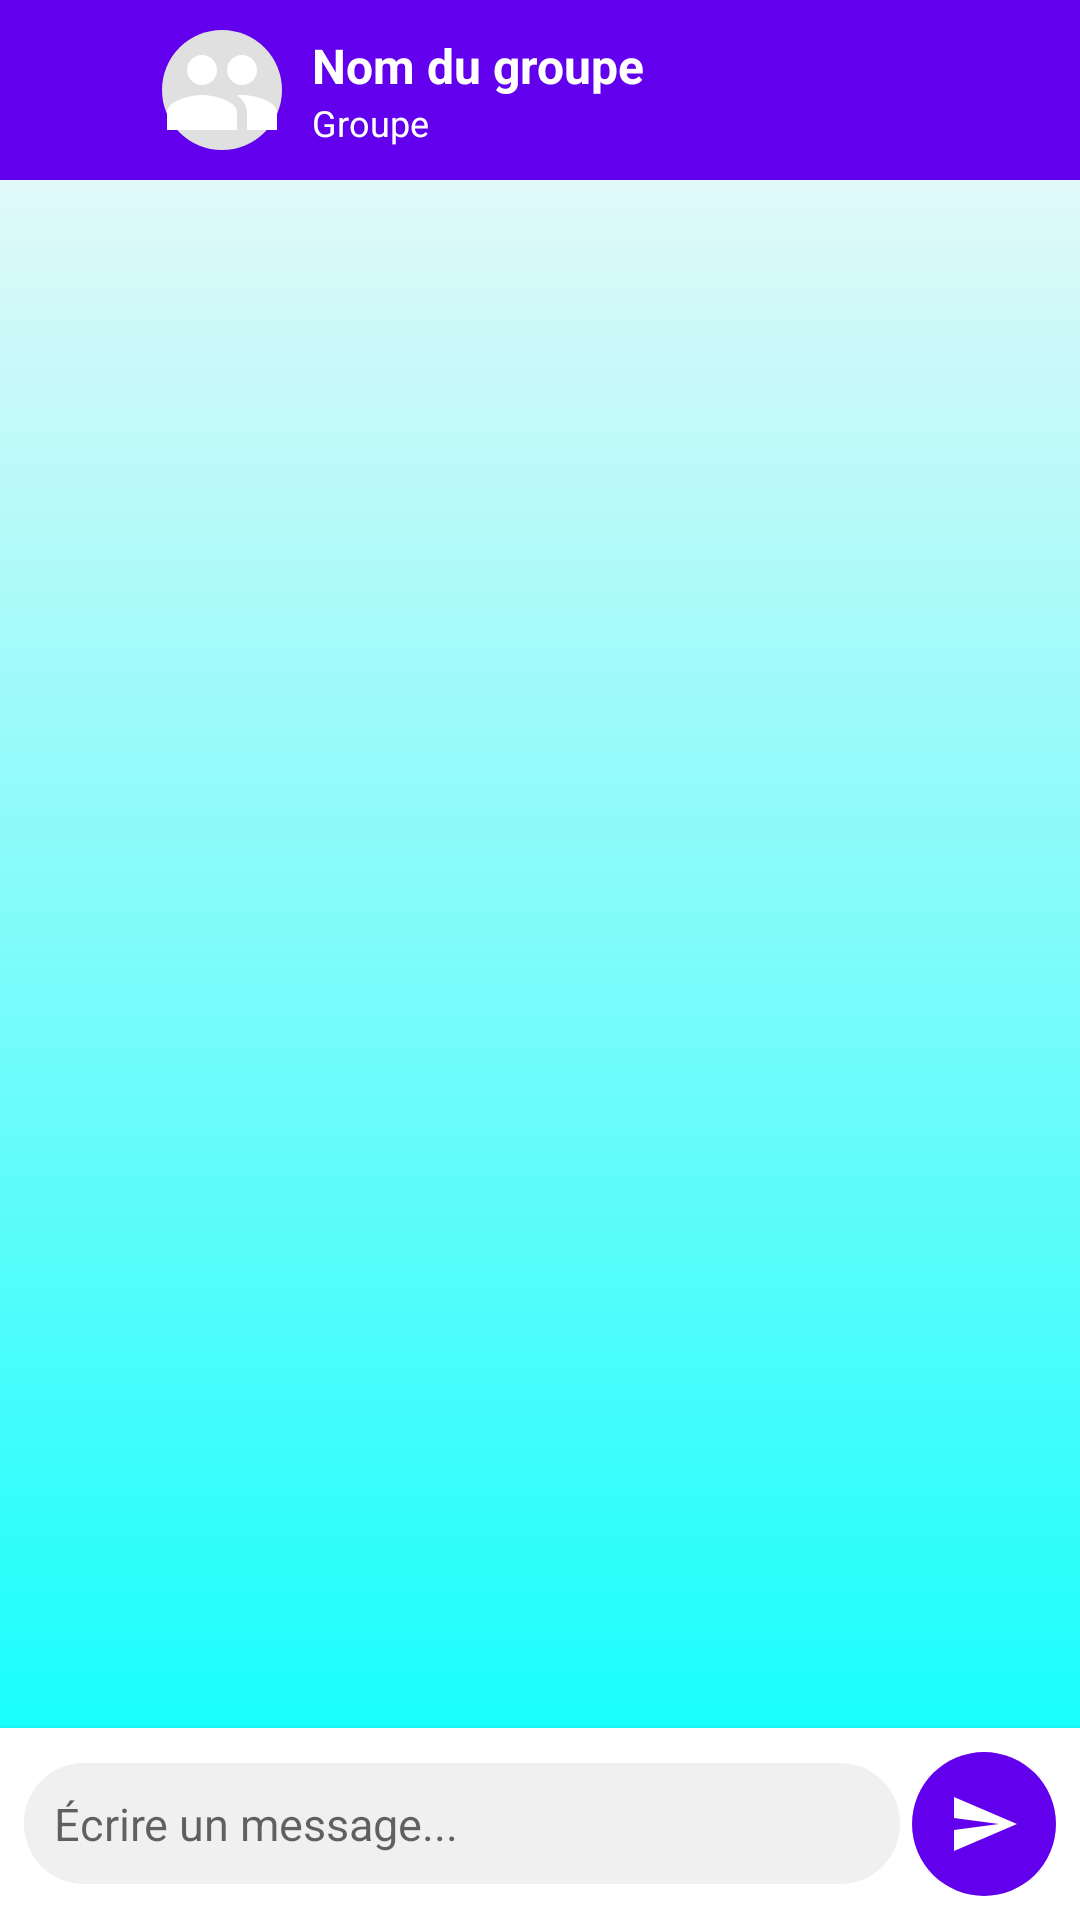

Where to tap for icons on this 1080px x 1920px app screen, as (x=x, y=y):
send: (x=984, y=1824)
